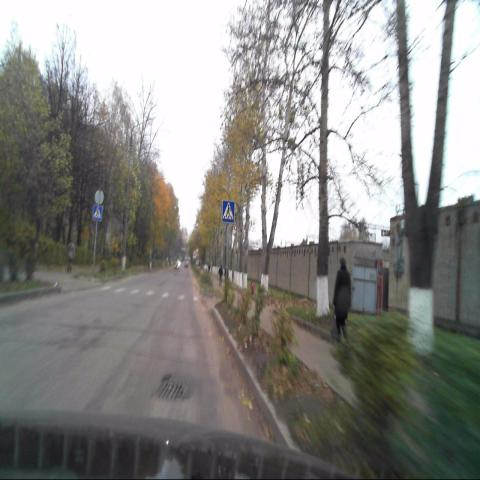5_19_1: (222, 201, 234, 222), (92, 205, 102, 222)
